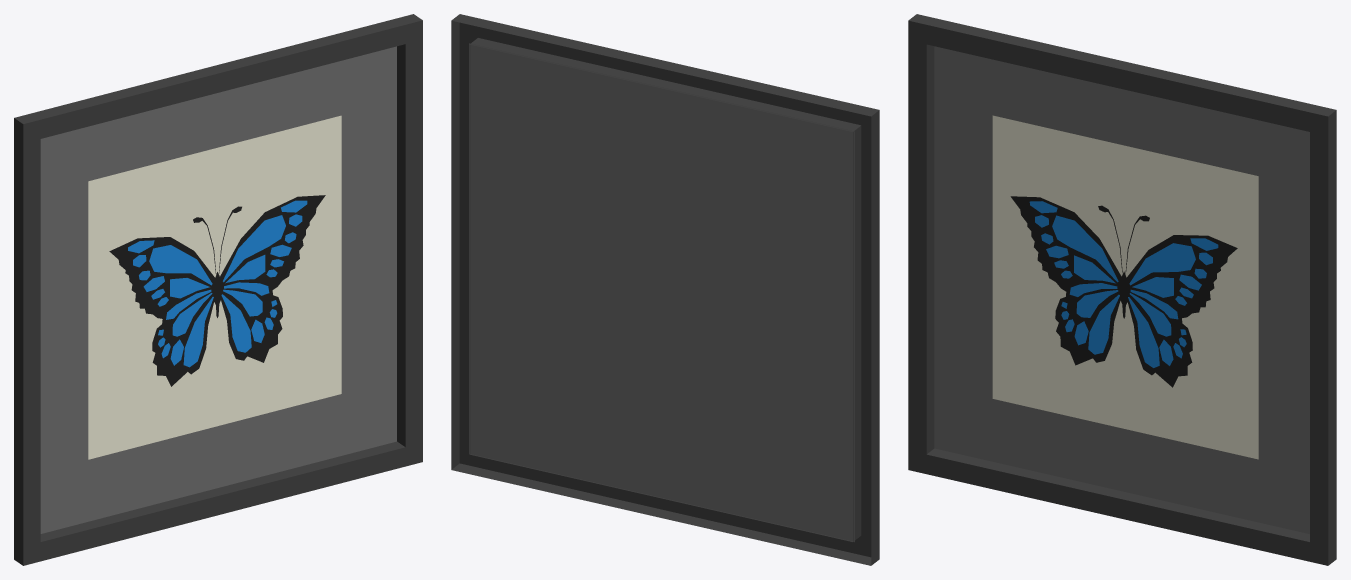
File: Photo_Frame_M_05.fbx
3 views of the same model, side by side, from view 1: azimuth 30°, elevation 25°; view 2: azimuth 150°, elevation 25°; view 3: azimuth 330°, elevation 25° (orthographic).
Parts seen in each view (by area): view 1: Photo_Frame_M_05; view 2: Photo_Frame_M_05; view 3: Photo_Frame_M_05.
Boxes of the visible parts, x1,y1,x2,y2 form: Photo_Frame_M_05: (14,14,422,565); Photo_Frame_M_05: (451,14,879,565); Photo_Frame_M_05: (908,14,1336,565).
Bounding box in the file's own units: 76.39 × 79.31 × 4.99.
1 material, 1 textured.
